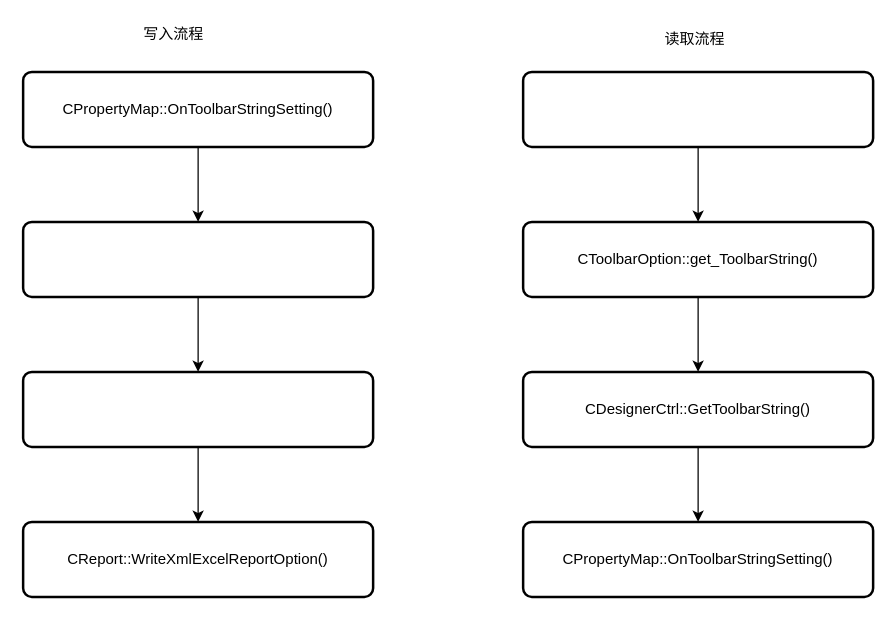
Some shapes in this 895 by 619 pixel diagram are drawn without their labels. Each missing label, with the box of its shape:
CReport::ReadXmlExcelReportOption(): (521, 70, 874, 148)
CToolbarOption::put_ToolbarString(): (21, 370, 374, 448)
void CDesignerCtrl::SetToolbarString(): (21, 220, 374, 298)
